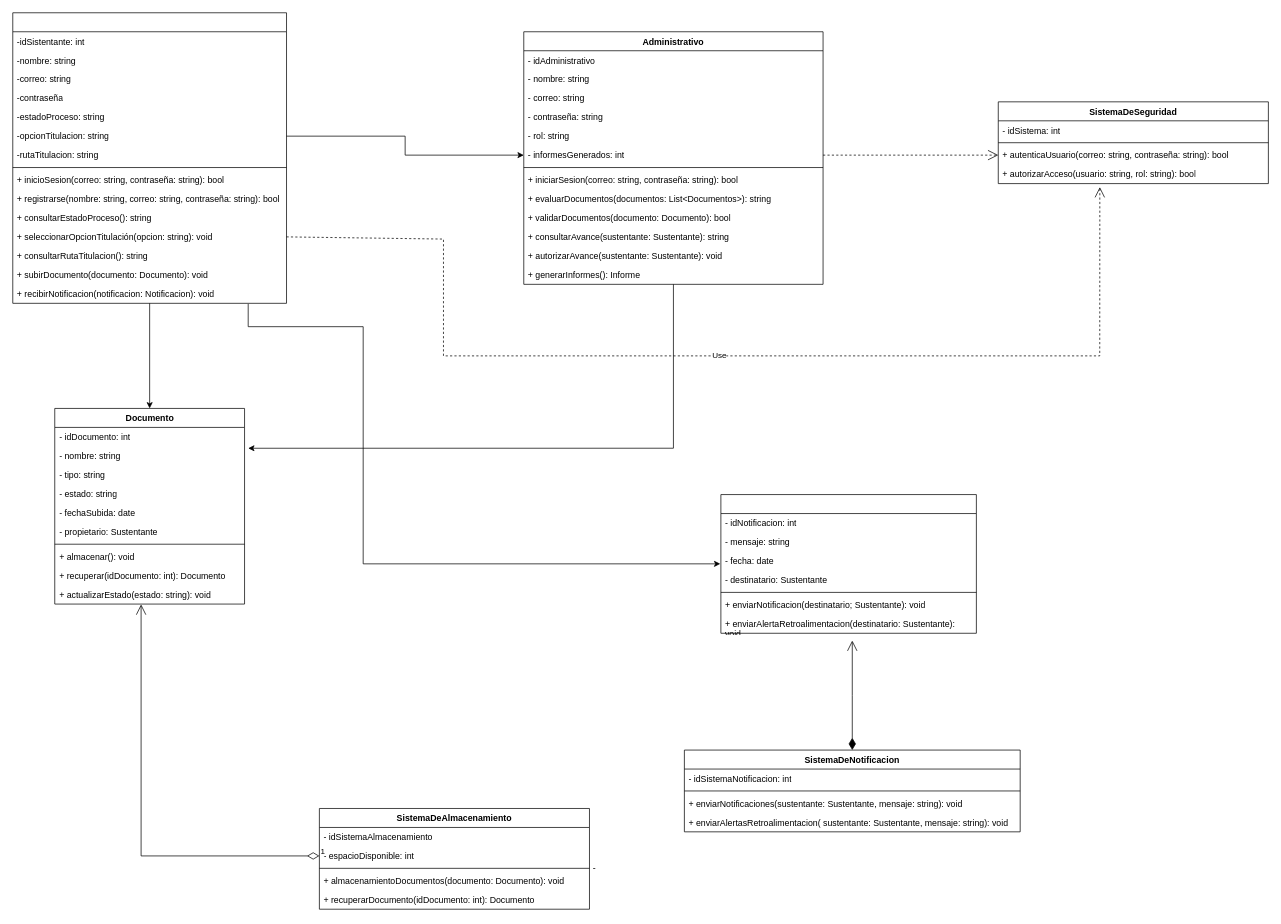
The diagram is 1281 pixels wide and 924 high, and some of its shapes have lost their labels. The shapes that lost their labels are listed below. From the top down, each one's box as (x1, y1, x2, y2) in pixels, then its label:
(12, 12, 287, 303): Sustentante
(720, 494, 976, 633): Notificación
